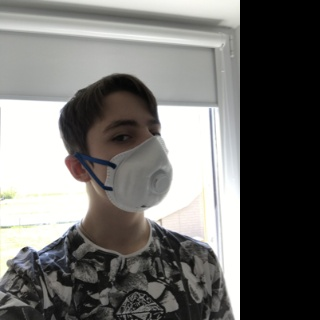with_mask: (98, 111, 173, 213)
